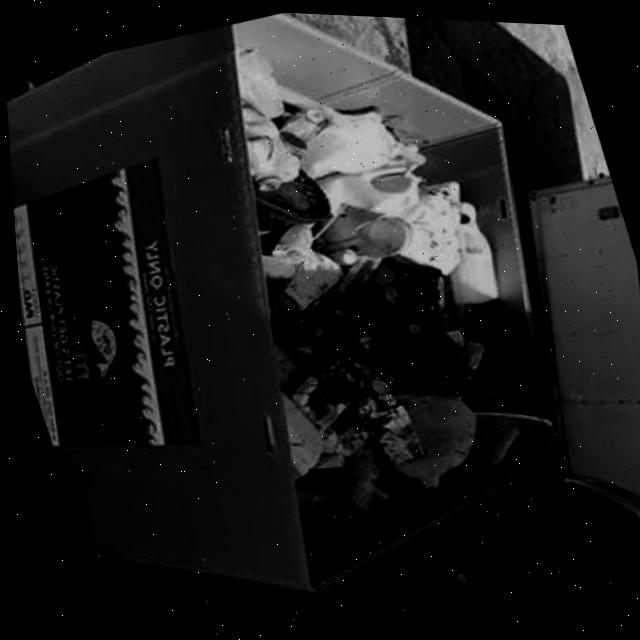Garbage: (233, 47, 541, 523)
Plastic_Bag: (369, 257, 462, 390)
Plastic_Container: (391, 393, 471, 488)
